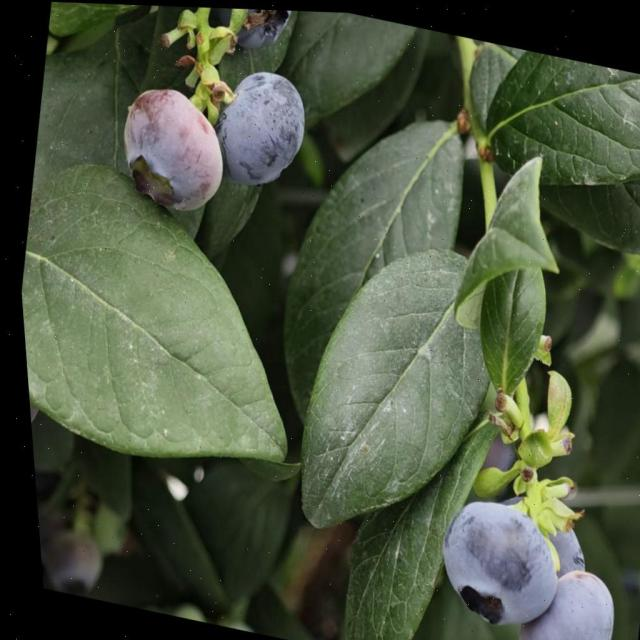RipeBlueBerry: (422, 486, 562, 640), (208, 60, 316, 196), (505, 559, 616, 640), (214, 6, 298, 56)
Semi-RipeBlueBerry: (106, 80, 232, 218)
